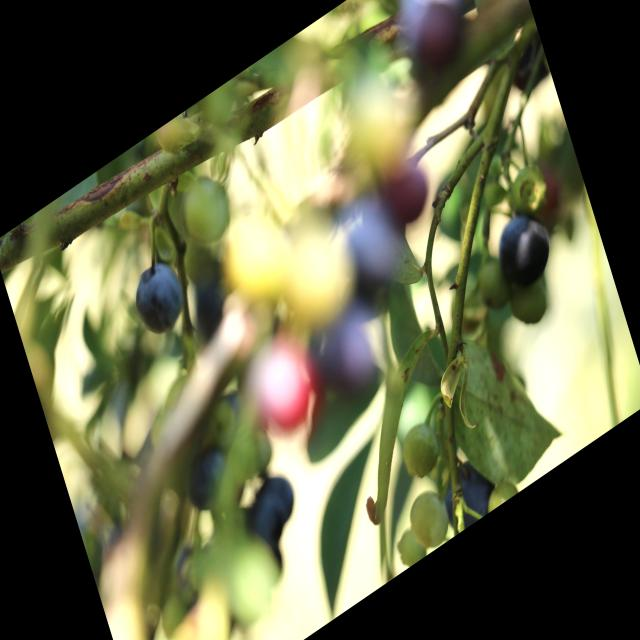blueberry: (484, 190, 566, 306), (431, 441, 505, 540), (122, 242, 192, 346)
blueberry-unripe: (172, 160, 237, 254), (402, 480, 455, 560), (395, 412, 448, 488)
